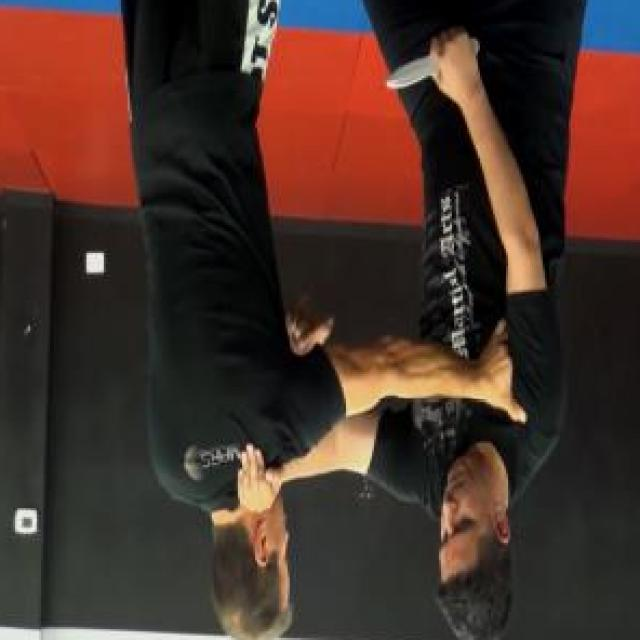knife: (381, 27, 480, 99)
